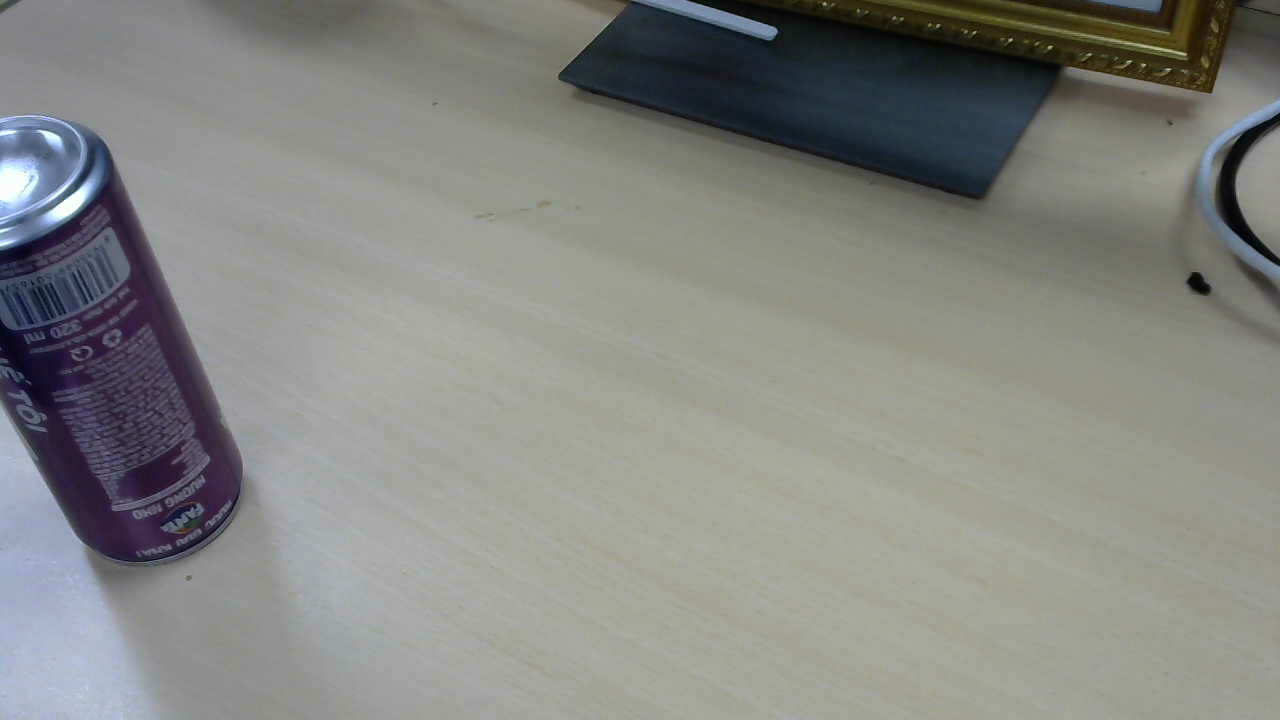Fanta: (7, 115, 251, 576)
